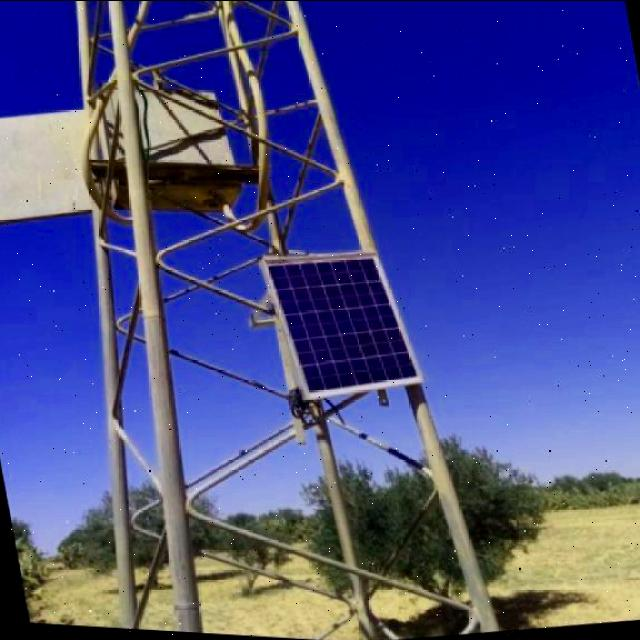Normal Solar Panel: (268, 246, 429, 412)
